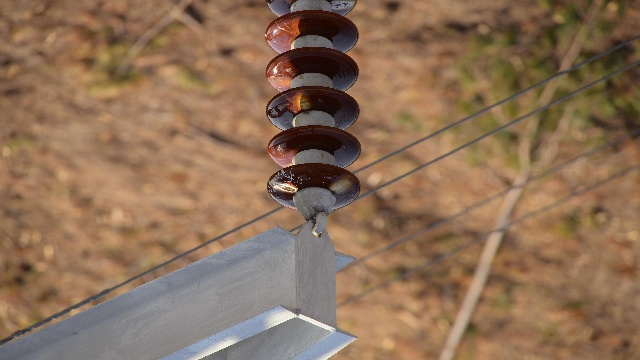insulator_unspecified: (264, 0, 358, 209)
pollution_flashover_local: (327, 174, 355, 196), (271, 177, 298, 195), (293, 90, 314, 112), (288, 14, 307, 37), (268, 74, 293, 91), (333, 0, 354, 13)
